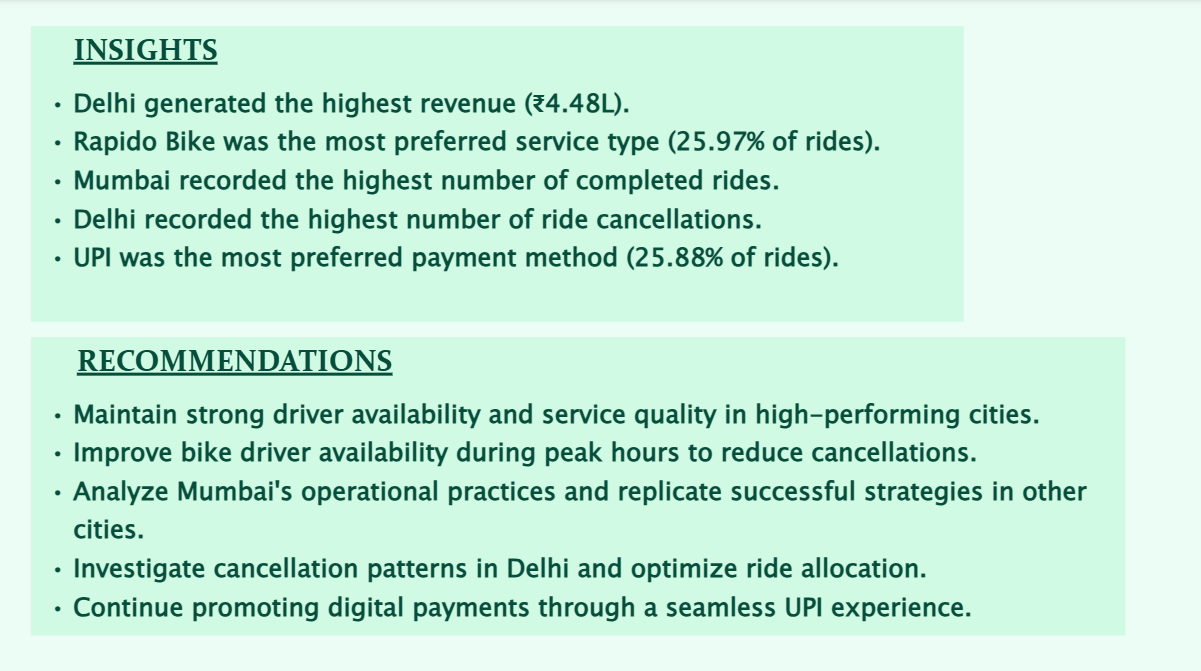

This screenshot's page, from the dashboard's own definition file:
{"tool":"powerbi","page":{"name":"4. Insights & Recommendations","canvas":[1280,720],"ordinal":4},"visuals":[{"type":"textbox","box":[34.8,29.8,989.9,313.4],"z":0},{"type":"textbox","box":[35,360,1161.7,316.7],"z":1000}]}

Visuals, with their boxes in screenshot pixels (x1, y1, x2, y2), scaled from the page's 1280x720 canvas onto the 1201x671 screenshot:
textbox: 33 28 961 320
textbox: 33 336 1123 631
